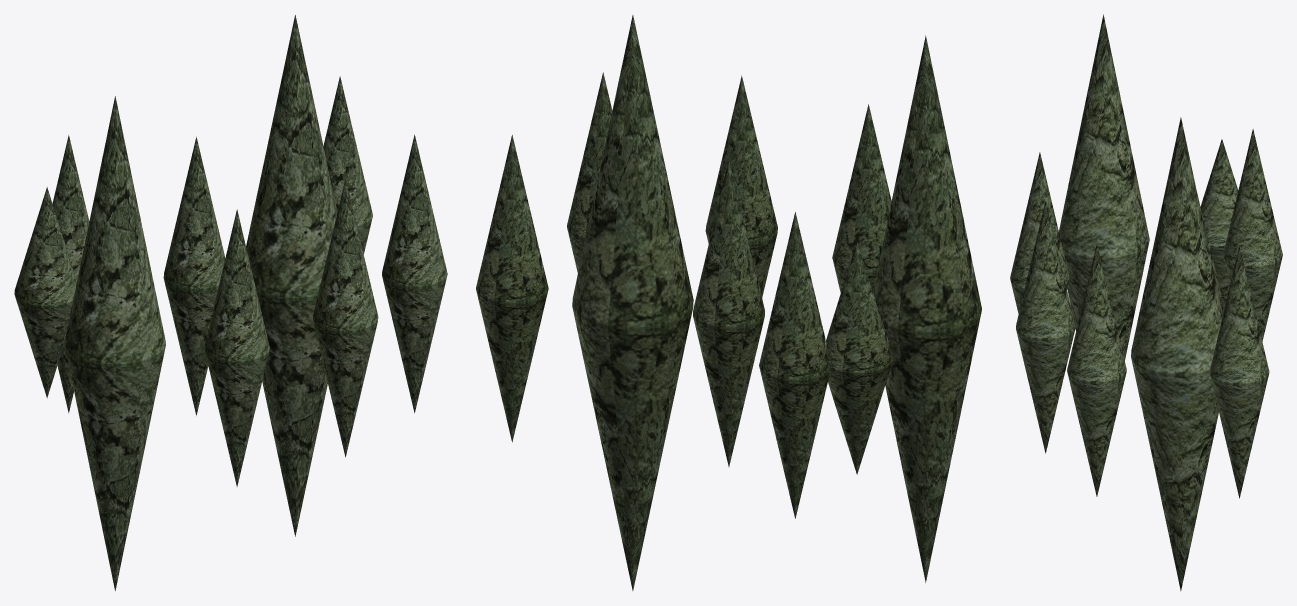
The model's file is spikes_ceiling.FBX.
The picture shows the model from 3 angles, left to right: view 1: azimuth 30°, elevation 25°; view 2: azimuth 150°, elevation 25°; view 3: azimuth 270°, elevation 25°; orthographic projection. The views are drawn at different scales.
Parts seen in each view (by area): view 1: Cone016; view 2: Cone016; view 3: Cone016.
Part boxes in pixels (bbox=[...]): Cone016: bbox=[14, 15, 447, 590]; Cone016: bbox=[476, 15, 981, 590]; Cone016: bbox=[1010, 14, 1282, 591].
Bounding box in the file's own units: 6.54 × 8.86 × 4.57.
Materials: 1 (1 with a texture image).
